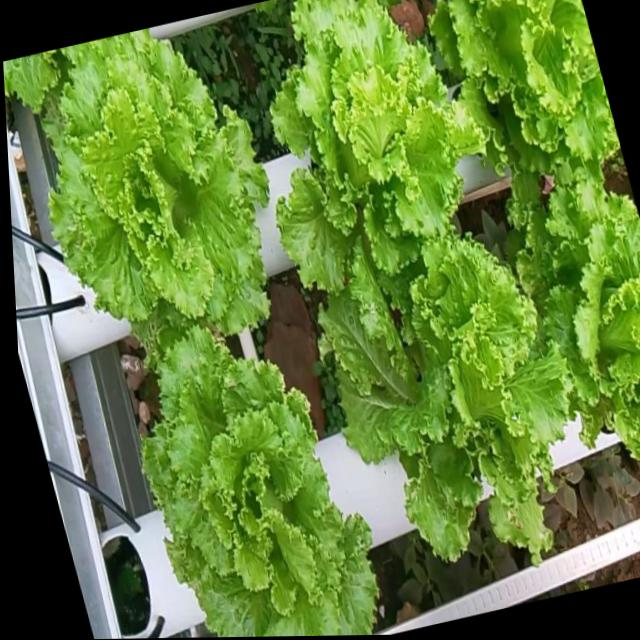Mature: (3, 29, 271, 359), (320, 237, 571, 564), (141, 326, 379, 637), (271, 0, 487, 310), (432, 0, 621, 188), (519, 187, 640, 464)
